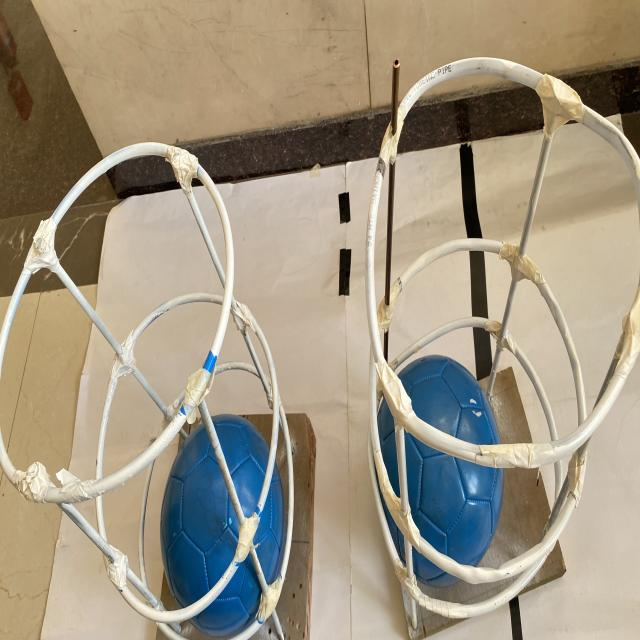blue_ball: (369, 356, 504, 590), (158, 412, 285, 625)
silo: (362, 55, 640, 640), (0, 143, 294, 640)
